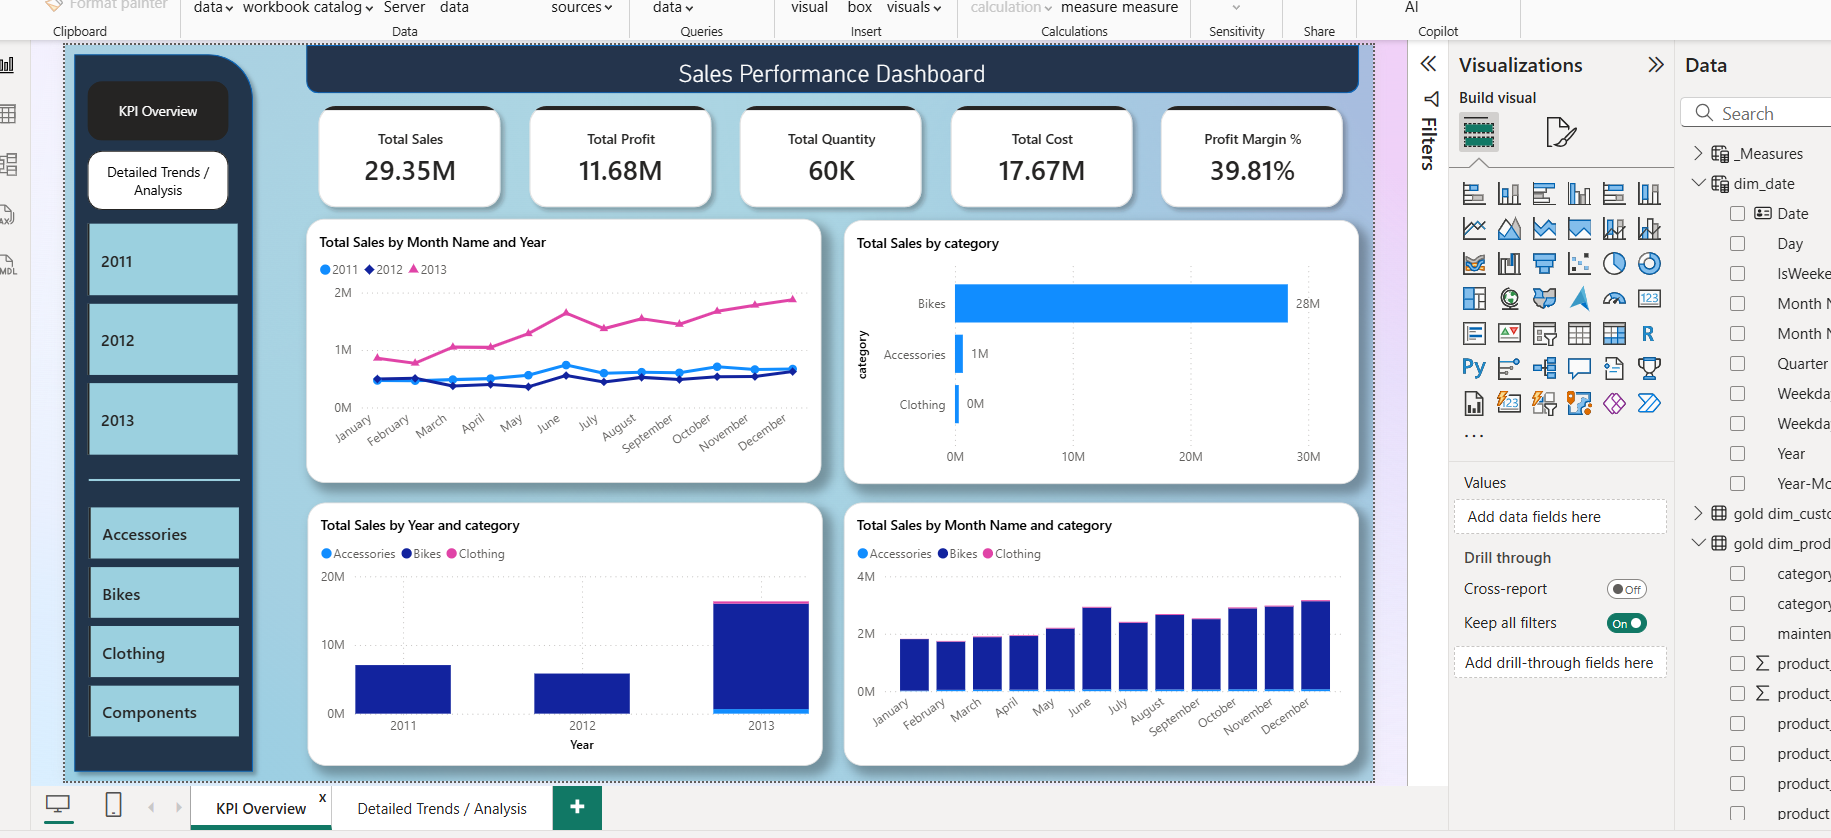

What the dashboard file says about the page in this screenshot:
{"tool":"powerbi","page":{"name":"KPI Overview","canvas":[1280,720],"ordinal":0},"visuals":[{"type":"shape","box":[235.7,0,1030,47.1],"z":0},{"type":"cardVisual","fields":{"Data":["Average Price.Total Sales","_Measures.Total Profit","_Measures.Total Quantity","Average Price.Total Cost","_Measures.Profit Margin %"]},"box":[236,47.7,1029.6,123.5],"z":1000},{"type":"shape","box":[0,0,192.9,720],"z":2000},{"type":"lineChart","fields":{"Y":["_Measures.Total Sales"],"Category":["dim_date.Month Name"],"Series":["dim_date.Year"]},"box":[236,170,503.8,258],"z":3000},{"type":"advancedSlicerVisual","fields":{"Values":["dim_date.Year"]},"box":[17.1,170,157.7,236],"z":4000},{"type":"clusteredBarChart","fields":{"Y":["_Measures.Total Sales"],"Category":["gold dim_products.category"]},"box":[761.8,171.2,503.8,258],"z":6000},{"type":"columnChart","fields":{"Category":["dim_date.Year"],"Y":["_Measures.Total Sales"],"Series":["gold dim_products.category"]},"box":[237.4,447.3,503.6,258],"z":7000},{"type":"lineStackedColumnComboChart","fields":{"Category":["dim_date.Month Name"],"Series":["gold dim_products.category"],"Y":["_Measures.Total Sales"]},"box":[761.6,447.3,503.6,258],"z":8000},{"type":"shape","box":[23.2,406,148,39.1],"z":9000},{"type":"pageNavigator","box":[22,35.5,138.2,127.2],"z":10000},{"type":"textbox","box":[595.5,8.6,332.6,39.1],"z":11000},{"type":"advancedSlicerVisual","fields":{"Values":["gold dim_products.category"]},"box":[18.3,447.6,157.7,236],"z":11001}]}

Visuals, with their boxes on the page's 1280x720 design canvas (x1, y1, x2, y2). These are canvas units, not pixel positions in the 1831x838 screenshot, which may show the page scaled, cropped or inside an application window:
shape: (236,0,1266,47)
cardVisual - Average Price.Total Sales x _Measures.Total Profit: (236,48,1266,171)
shape: (0,0,193,720)
lineChart - _Measures.Total Sales x dim_date.Month Name: (236,170,740,428)
advancedSlicerVisual - dim_date.Year: (17,170,175,406)
clusteredBarChart - _Measures.Total Sales x gold dim_products.category: (762,171,1266,429)
columnChart - dim_date.Year x _Measures.Total Sales: (237,447,741,705)
lineStackedColumnComboChart - dim_date.Month Name x gold dim_products.category: (762,447,1265,705)
shape: (23,406,171,445)
pageNavigator: (22,36,160,163)
textbox: (596,9,928,48)
advancedSlicerVisual - gold dim_products.category: (18,448,176,684)
